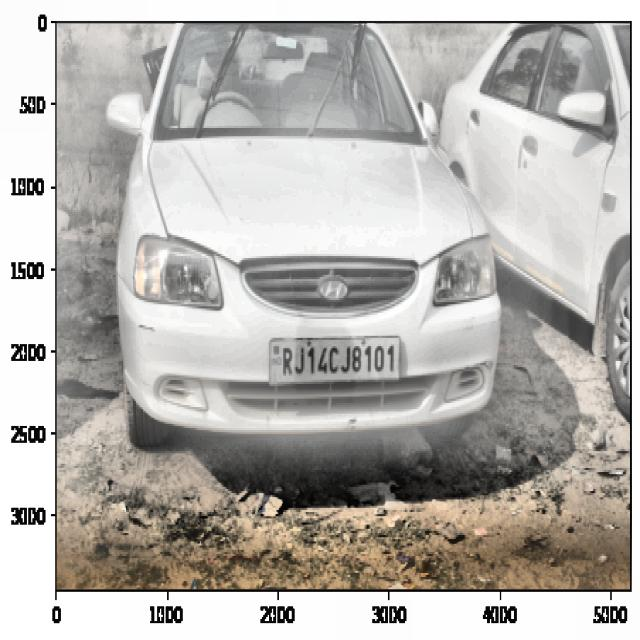license_plate: (275, 334, 399, 382)
